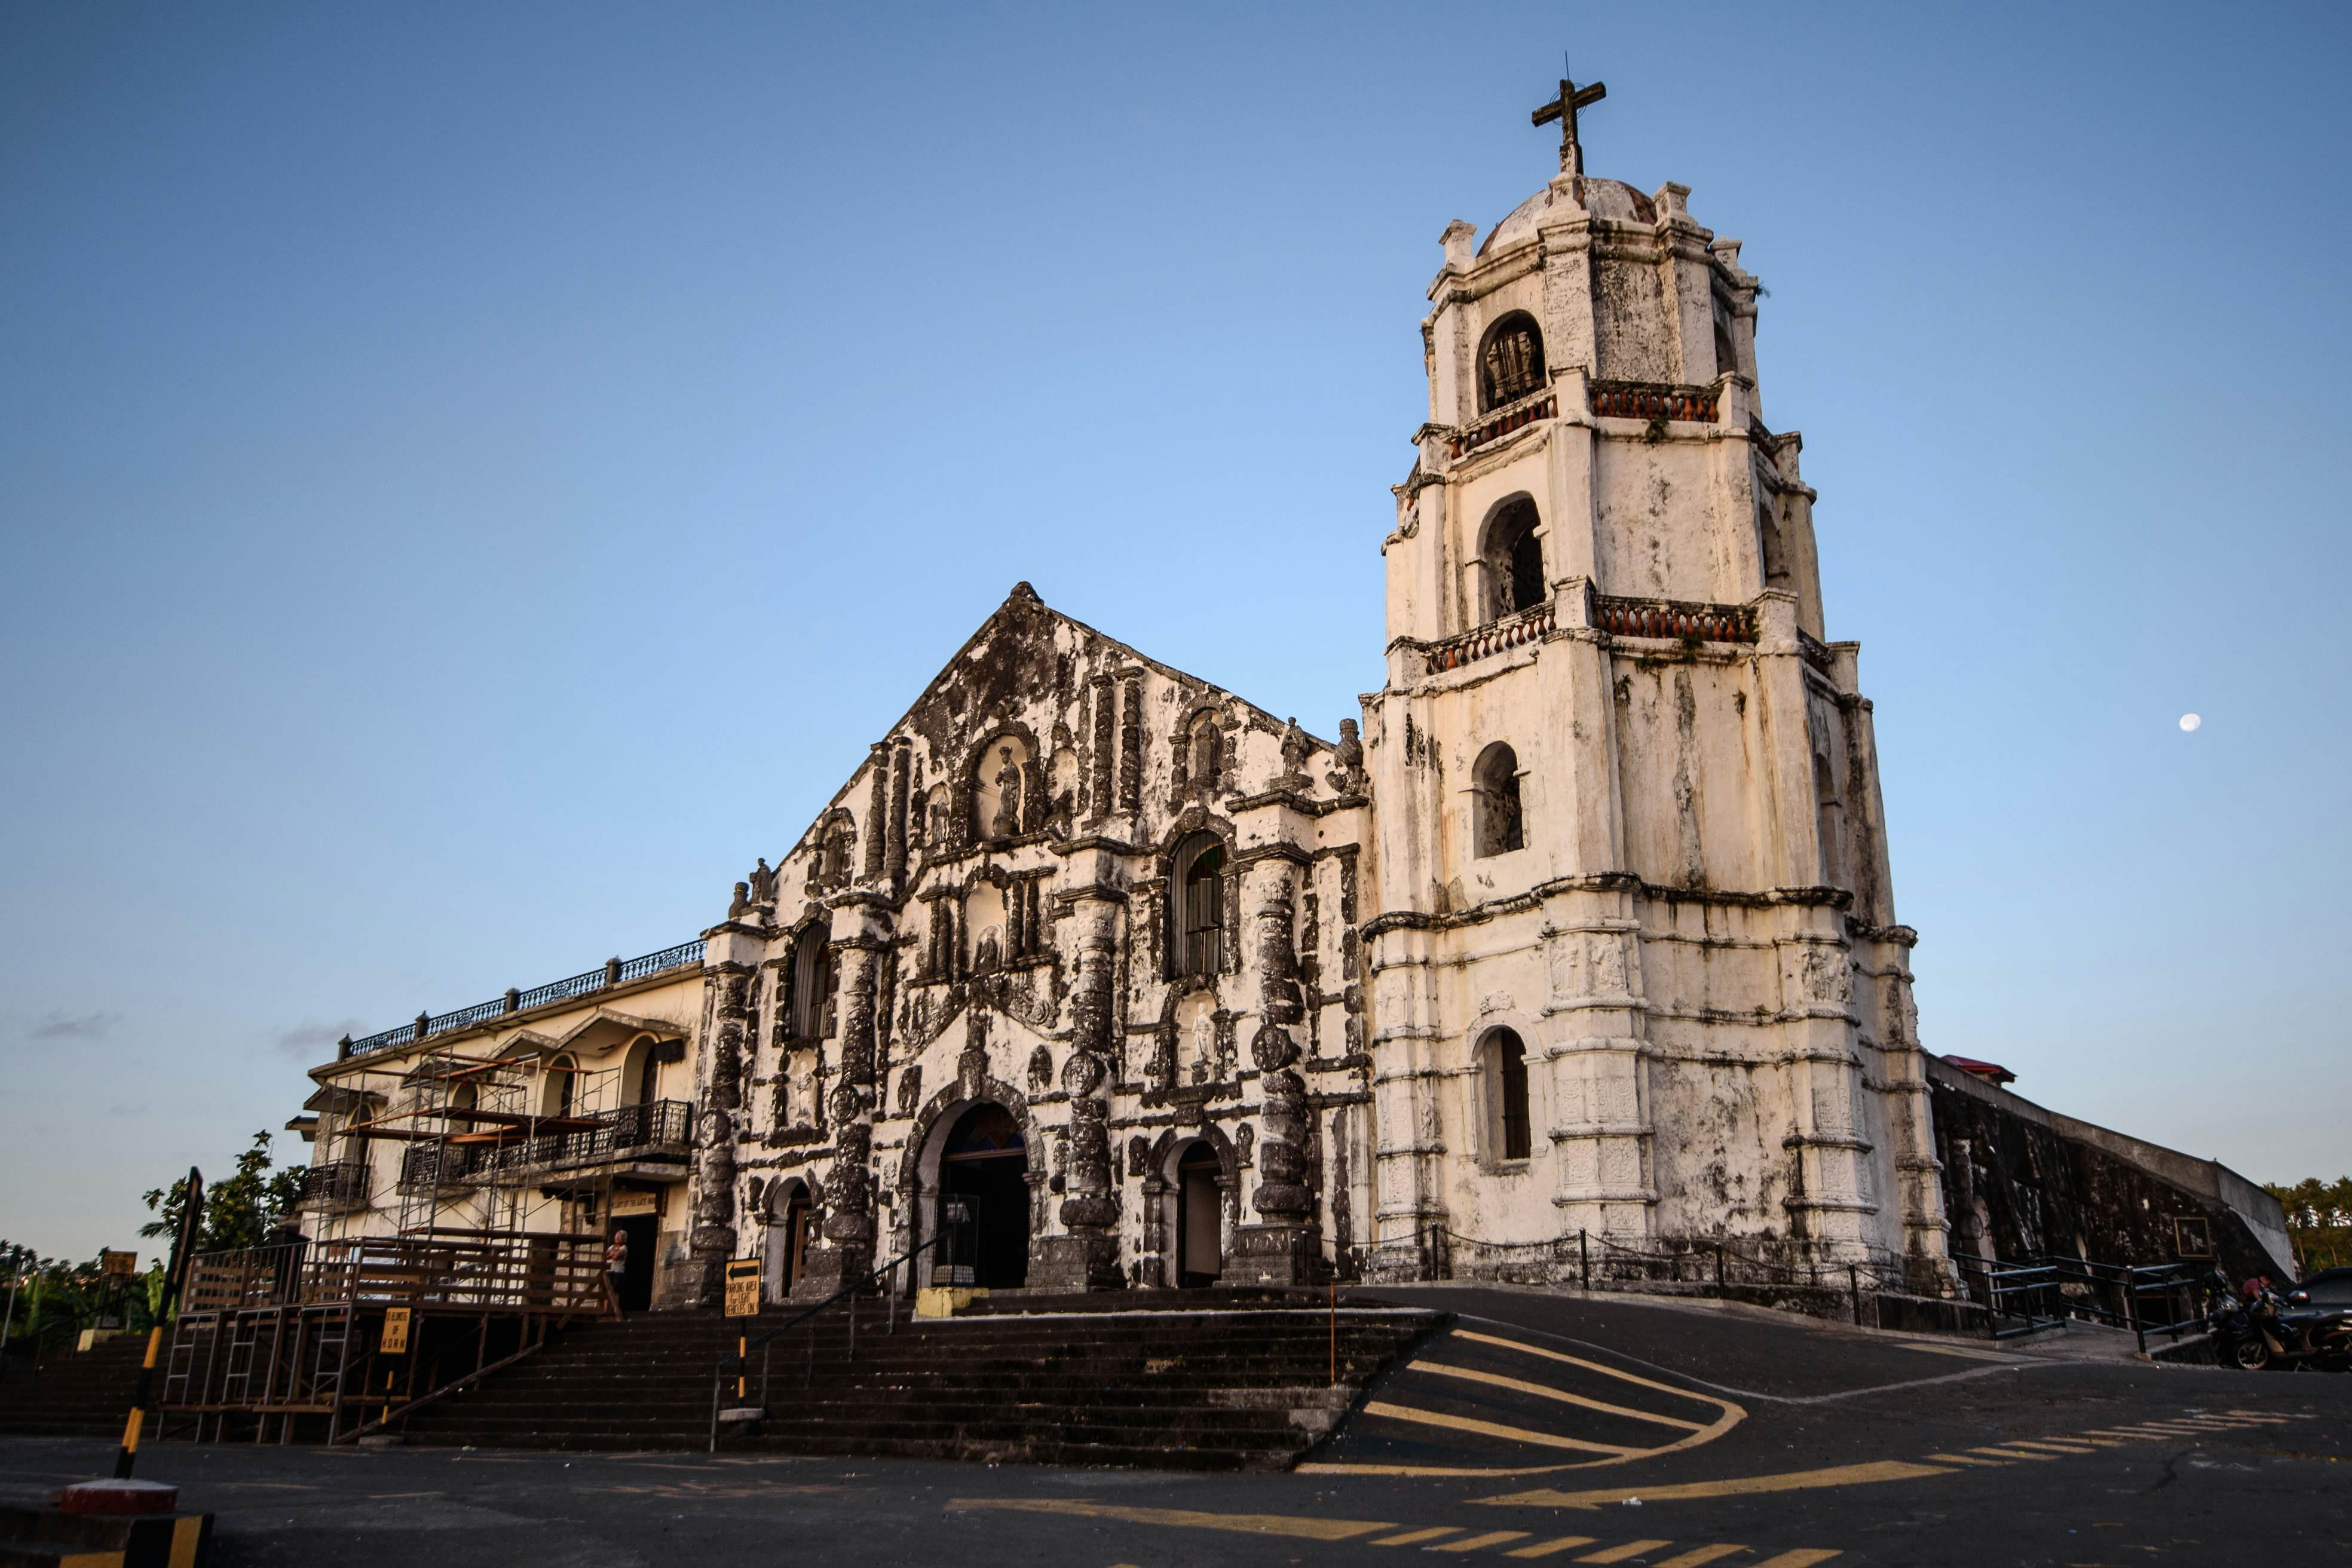daraga_church_daraga_albay: (675, 44, 1951, 1284)
